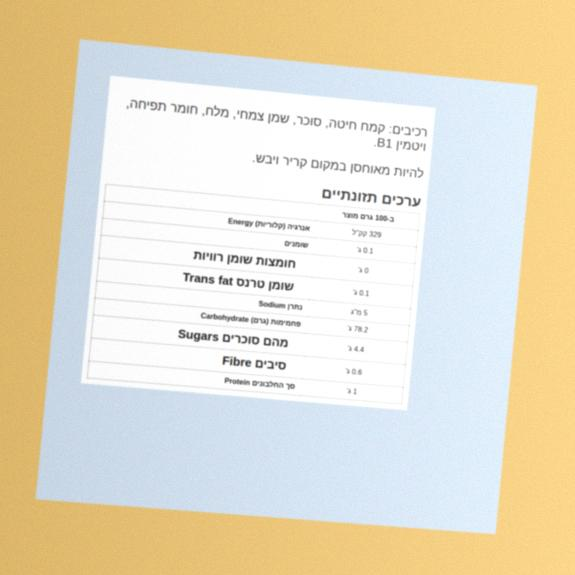carbs: (346, 323, 369, 335)
energy: (350, 227, 383, 240)
fat: (355, 245, 375, 256)
protein: (345, 386, 358, 396)
